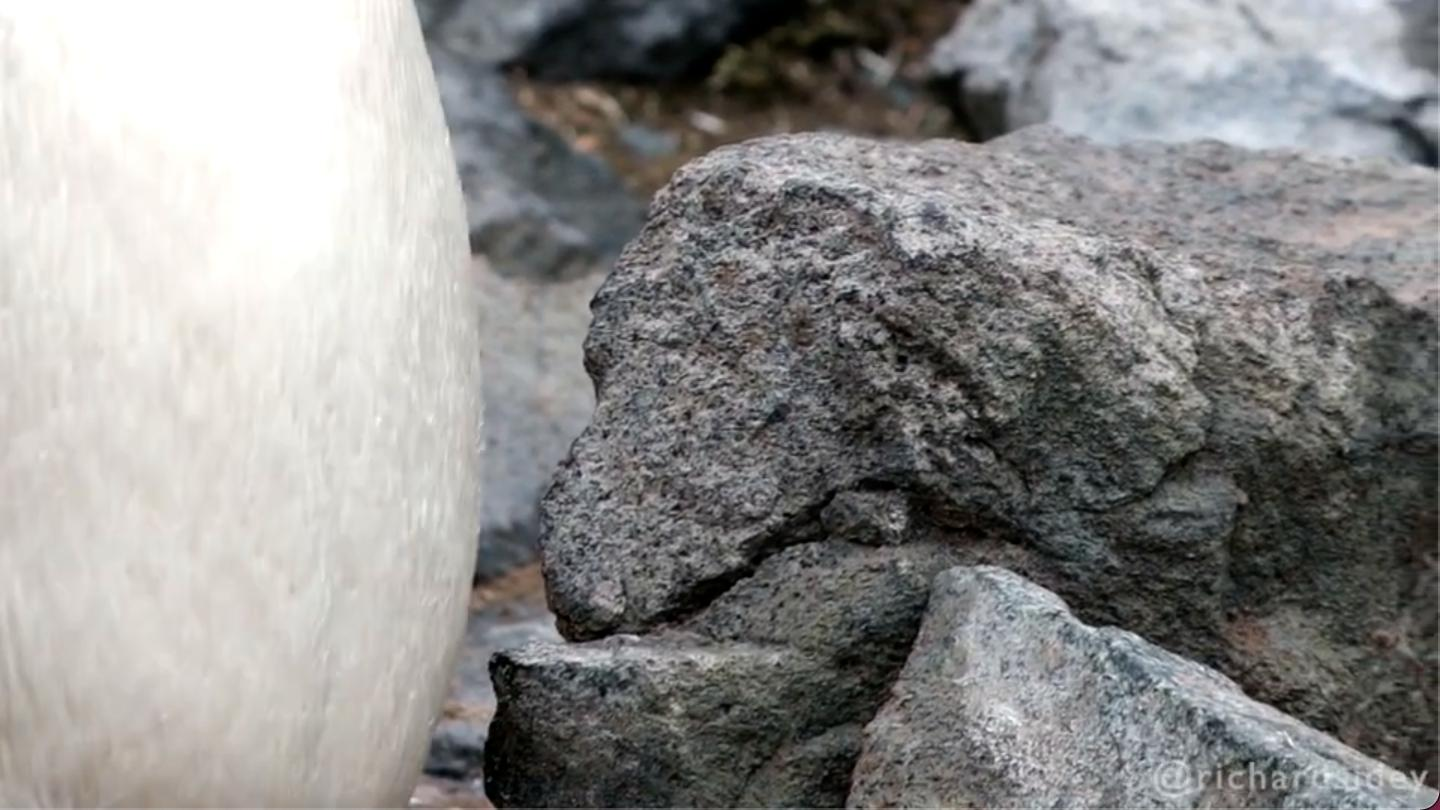Chinstrap Penguin: (0, 0, 552, 808)
